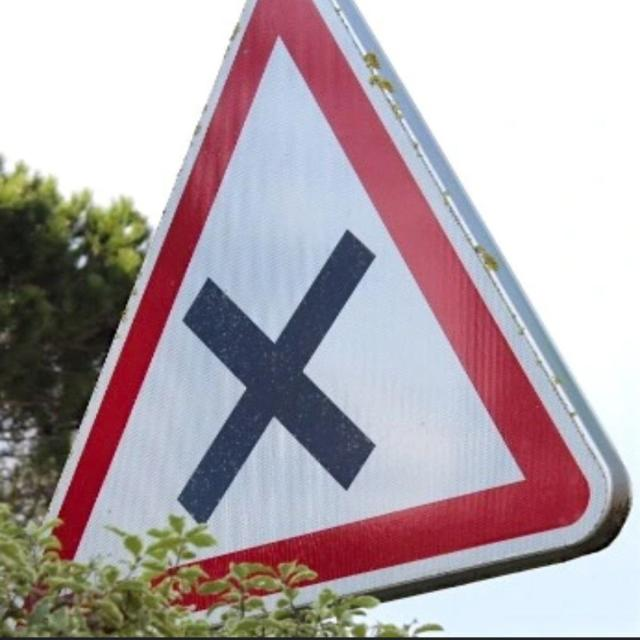Crossroads: (23, 1, 639, 600)
